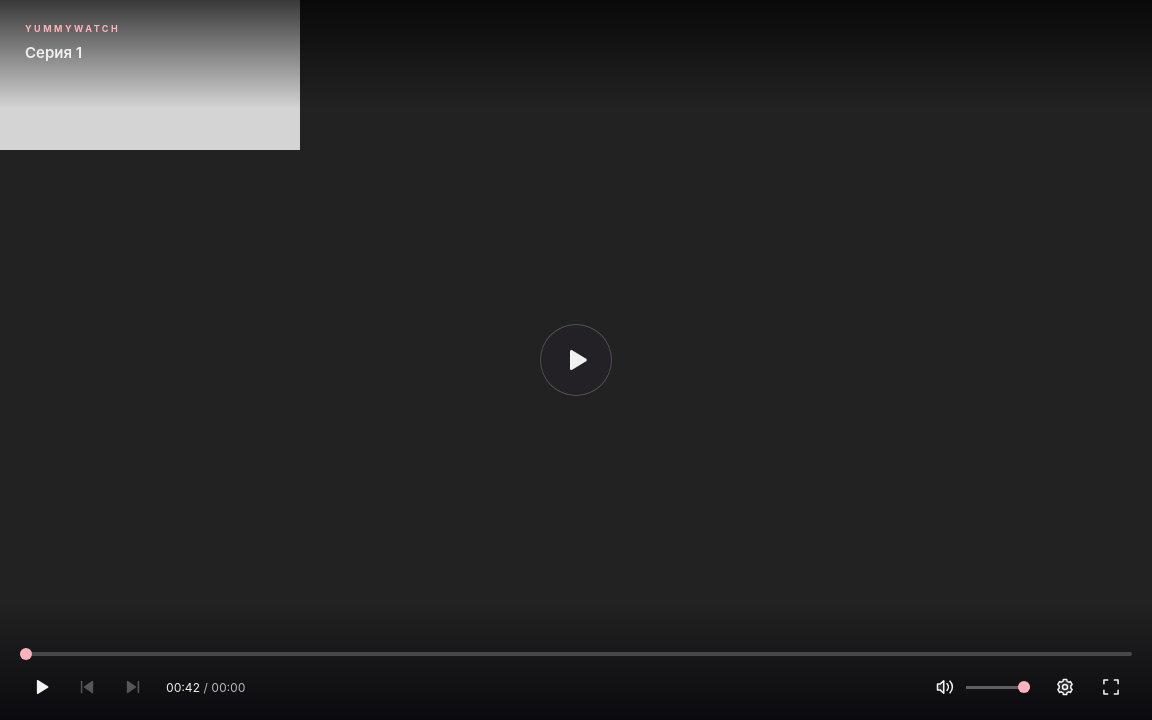
custom playback controls › closes settings and disables controls behind a media error
Later steps or results of the test are not shown.
Click the button named "Настройки плеера": (1065, 687) top-left (1044, 666), bottom-right (1086, 708)
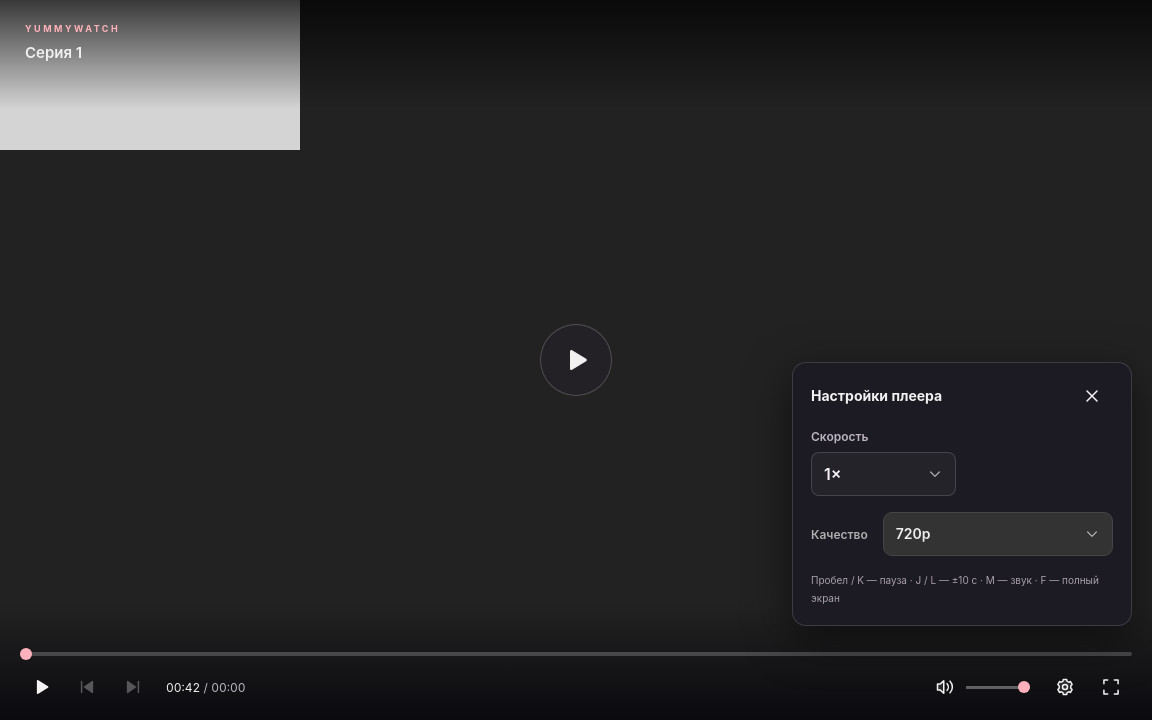
Now the dialog is shown, box top-left (792, 362), bottom-right (1132, 626)
